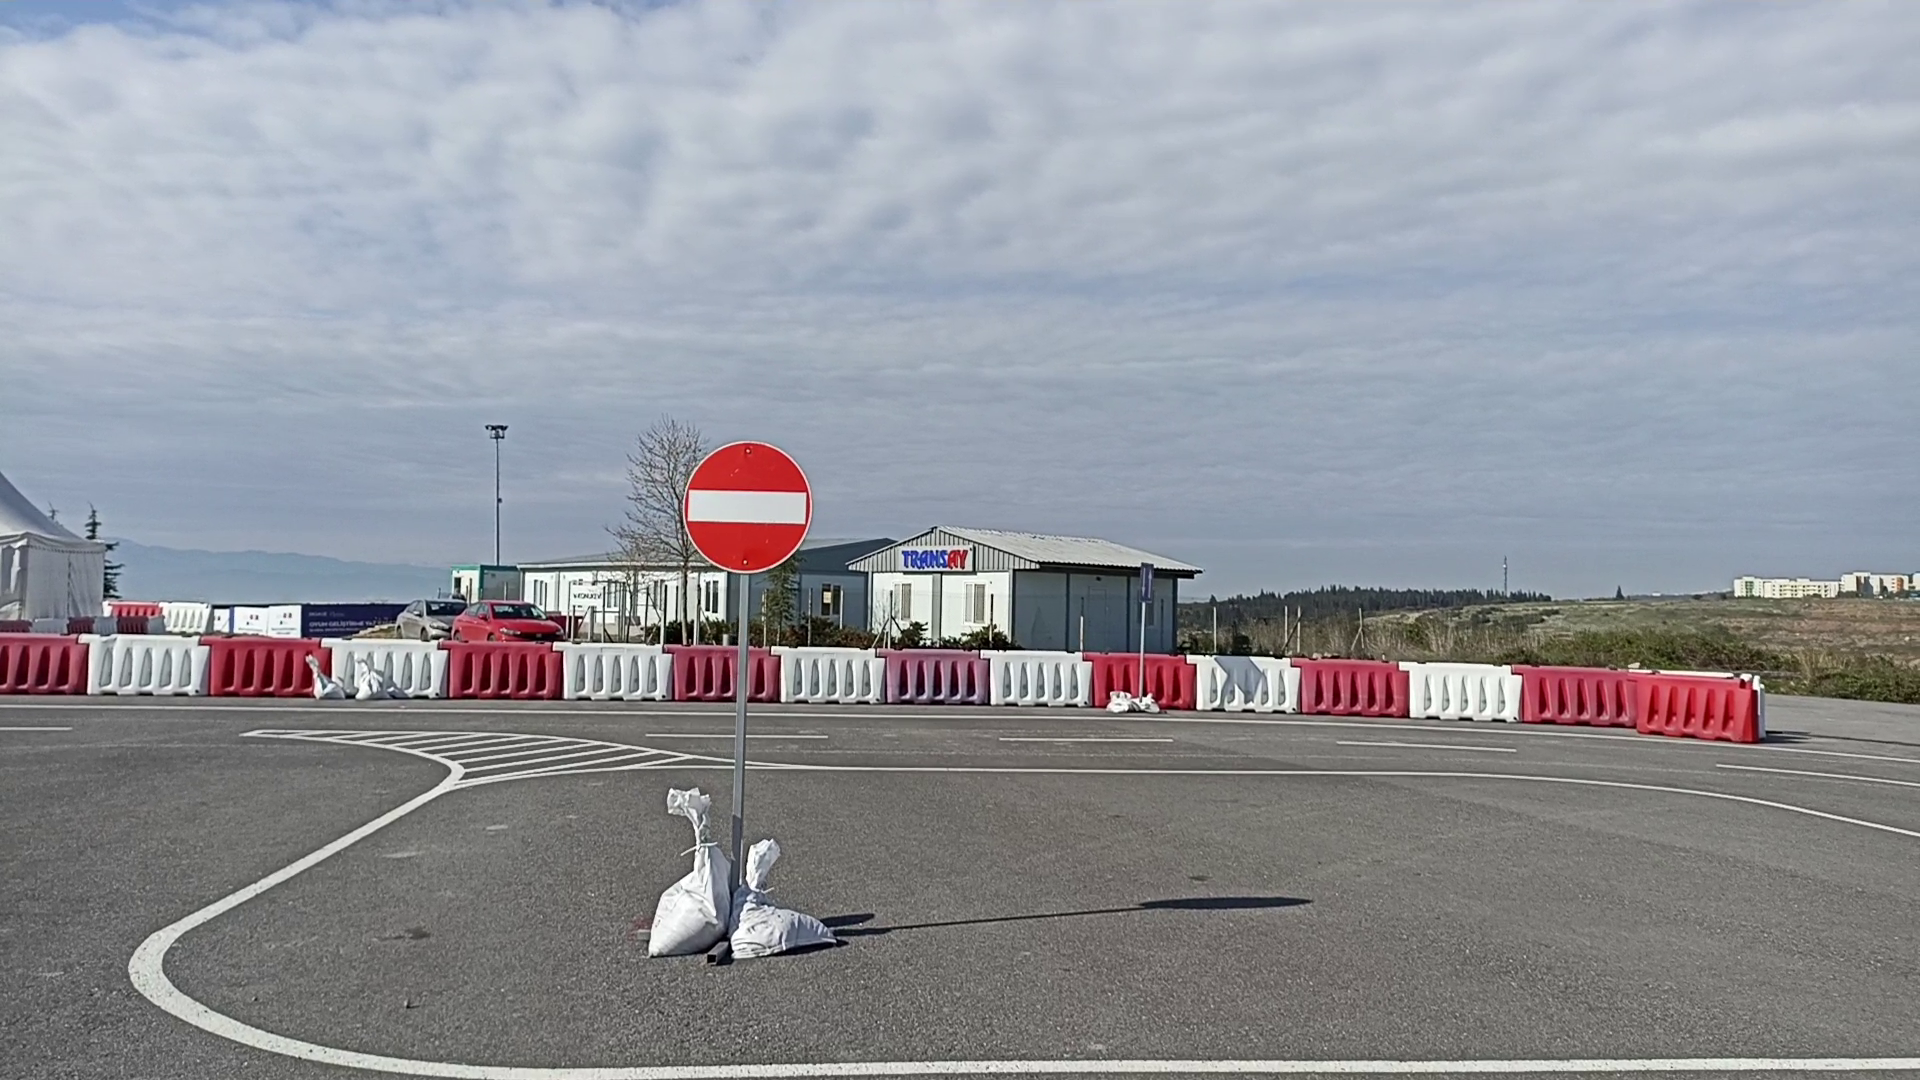noentryway: (679, 436, 818, 574)
